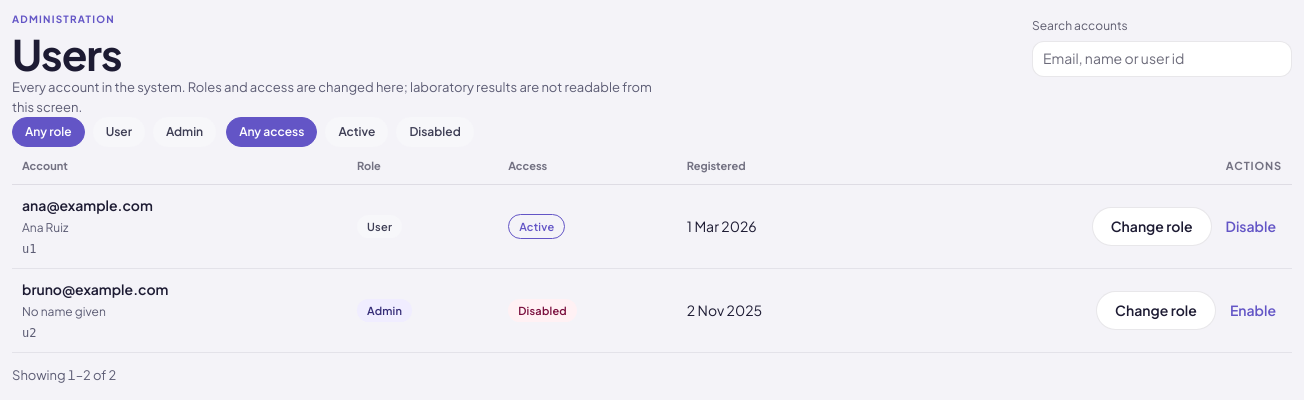
Test: AdminUsers › filters by role
Click the button "Admin": (185,132) [153,117,216,147]
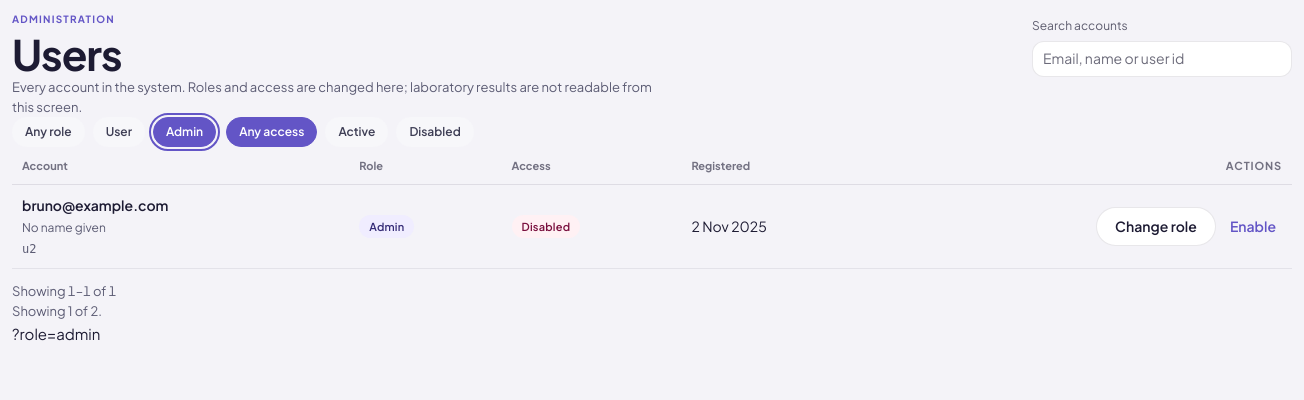
Expected: the text "bruno@example.com" is shown, [22,196,168,214]
Expected: the text "ana@example.com" is gone
